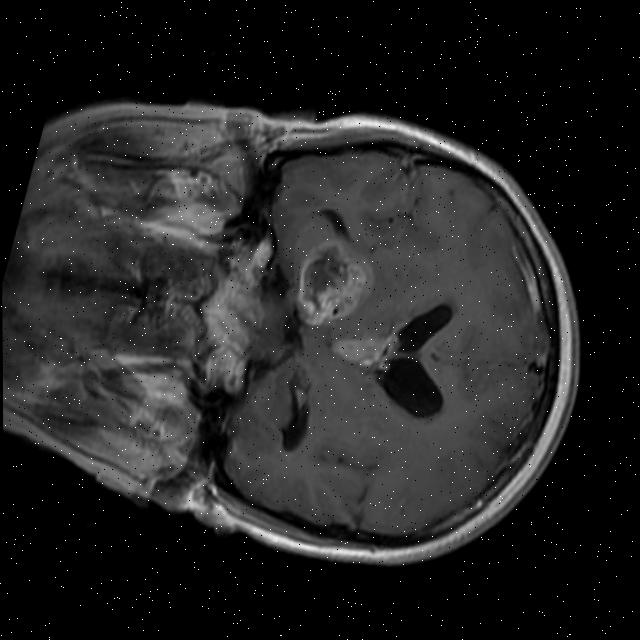Glioma: (286, 231, 380, 340)
Pituitary: (189, 270, 272, 360)
